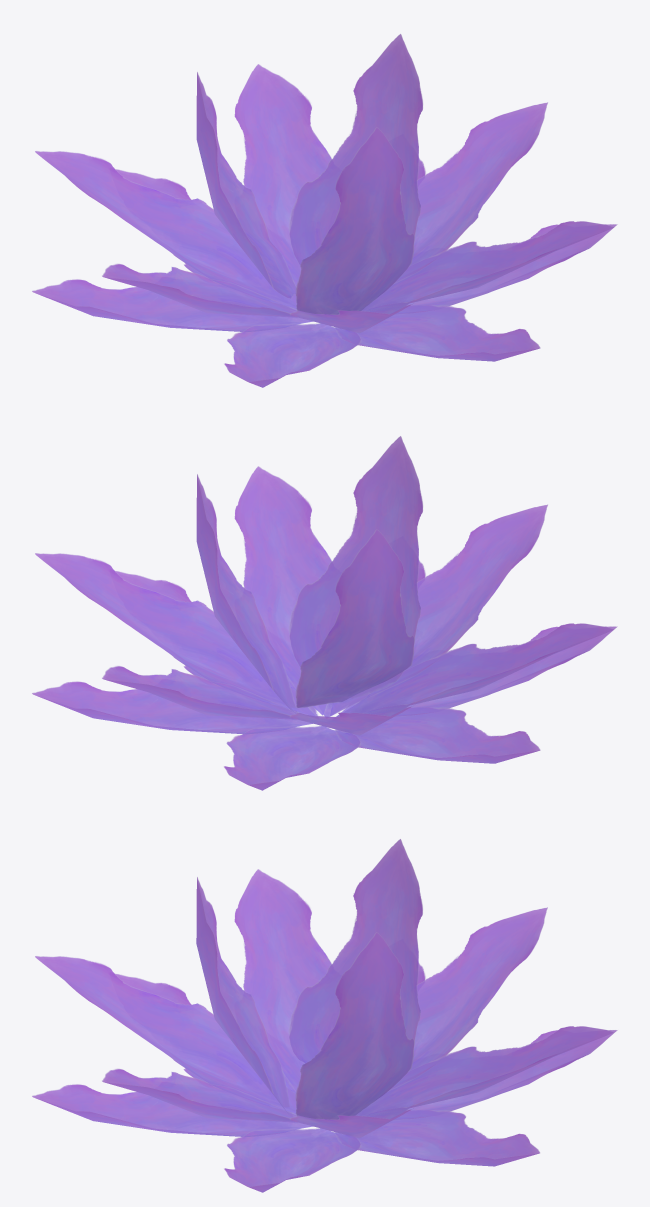
File: pedals.glb
The picture shows the model from 3 angles, top to bottom: view 1: azimuth 30°, elevation 25°; view 2: azimuth 150°, elevation 25°; view 3: azimuth 270°, elevation 25°; orthographic projection.
Visible parts, largest first — view 1: pPlane15, pPlane13, pPlane7, pPlane12, pPlane11, pPlane10, pPlane5, pPlane14, pPlane3, pPlane4, pPlane9, pPlane6 (+2 smaller); view 2: pPlane14, pPlane15, pPlane11, pPlane10, pPlane8, pPlane9, pPlane3, pPlane13, pPlane1, pPlane2, pPlane12, pPlane4 (+2 smaller); view 3: pPlane13, pPlane14, pPlane8, pPlane9, pPlane7, pPlane12, pPlane1, pPlane15, pPlane5, pPlane6, pPlane10, pPlane2 (+2 smaller).
Part boxes in pixels (x1=…): pPlane15: x1=295, y1=127, x2=414, y2=314; pPlane13: x1=289, y1=34, x2=422, y2=265; pPlane7: x1=35, y1=151, x2=296, y2=308; pPlane12: x1=234, y1=64, x2=331, y2=287; pPlane11: x1=394, y1=102, x2=547, y2=283; pPlane10: x1=361, y1=221, x2=614, y2=311; pPlane5: x1=335, y1=305, x2=540, y2=361; pPlane14: x1=196, y1=72, x2=296, y2=298; pPlane3: x1=32, y1=279, x2=312, y2=332; pPlane4: x1=224, y1=323, x2=361, y2=387; pPlane9: x1=102, y1=263, x2=297, y2=317; pPlane6: x1=394, y1=224, x2=617, y2=314; pPlane14: x1=295, y1=529, x2=414, y2=707; pPlane15: x1=289, y1=436, x2=422, y2=703; pPlane11: x1=35, y1=553, x2=315, y2=716; pPlane10: x1=234, y1=466, x2=331, y2=715; pPlane8: x1=330, y1=504, x2=547, y2=716; pPlane9: x1=336, y1=623, x2=614, y2=716; pPlane3: x1=335, y1=707, x2=540, y2=763; pPlane13: x1=196, y1=474, x2=298, y2=713; pPlane1: x1=32, y1=681, x2=312, y2=734; pPlane2: x1=224, y1=726, x2=360, y2=790; pPlane12: x1=102, y1=666, x2=297, y2=719; pPlane4: x1=337, y1=626, x2=617, y2=716; pPlane13: x1=295, y1=932, x2=414, y2=1119; pPlane14: x1=288, y1=839, x2=422, y2=1063; pPlane8: x1=35, y1=956, x2=296, y2=1113; pPlane9: x1=234, y1=869, x2=331, y2=1093; pPlane7: x1=388, y1=907, x2=547, y2=1091; pPlane12: x1=355, y1=1026, x2=613, y2=1116; pPlane1: x1=335, y1=1110, x2=539, y2=1166; pPlane15: x1=196, y1=877, x2=294, y2=1122; pPlane5: x1=32, y1=1084, x2=312, y2=1137; pPlane6: x1=224, y1=1128, x2=360, y2=1192; pPlane10: x1=102, y1=1068, x2=297, y2=1122; pPlane2: x1=393, y1=1030, x2=617, y2=1120.
Size of the model in its own units: 2.78 by 1.29 by 2.75.
Materials: 1 (1 with a texture image).
